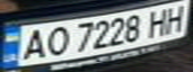2: (90, 16, 115, 51), (109, 15, 130, 47)
7: (69, 19, 97, 53)
8: (124, 11, 148, 43)
A: (15, 26, 51, 61)
H: (142, 6, 175, 38), (160, 2, 190, 35)
O: (39, 24, 72, 57)
